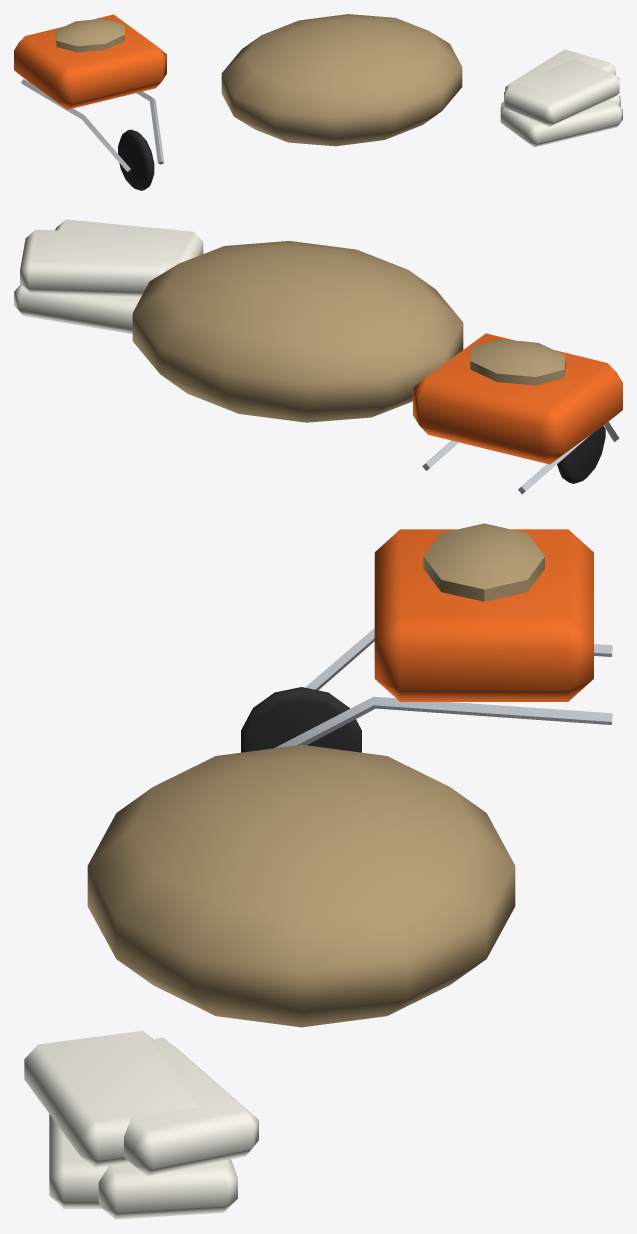
Rendered from sand_pile_wheelbarrow.glb.
The picture shows the model from 3 angles, top to bottom: view 1: azimuth 30°, elevation 25°; view 2: azimuth 150°, elevation 25°; view 3: azimuth 270°, elevation 25°; orthographic projection. The views are drawn at different scales.
Visible parts, largest first — view 1: sand_pile_wheelbarrow; view 2: sand_pile_wheelbarrow; view 3: sand_pile_wheelbarrow.
Part boxes in pixels (x1,y1,x2,y2): sand_pile_wheelbarrow: [14, 14, 622, 190]; sand_pile_wheelbarrow: [14, 219, 622, 494]; sand_pile_wheelbarrow: [24, 523, 612, 1219].
Size of the model in its own units: 3.14 by 0.78 by 1.61.
